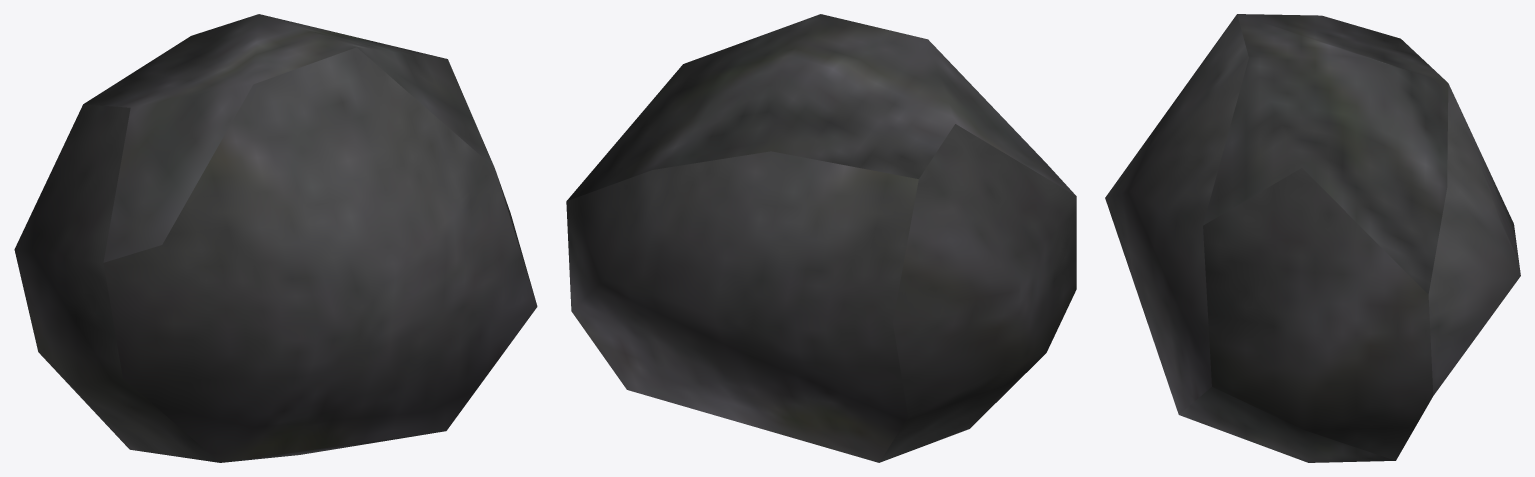
Rendered from Rock01.glb.
3 views of the same model, side by side, from view 1: azimuth 30°, elevation 25°; view 2: azimuth 150°, elevation 25°; view 3: azimuth 270°, elevation 25° (orthographic). The views are drawn at different scales.
Visible parts, largest first — view 1: Cube.002; view 2: Cube.002; view 3: Cube.002.
Boxes of the visible parts, x1,y1,x2,y2 form: Cube.002: (14,14,537,462); Cube.002: (566,14,1076,462); Cube.002: (1105,14,1520,462).
Size of the model in its own units: 3.53 by 2.89 by 3.
Materials: 1 (1 with a texture image).
